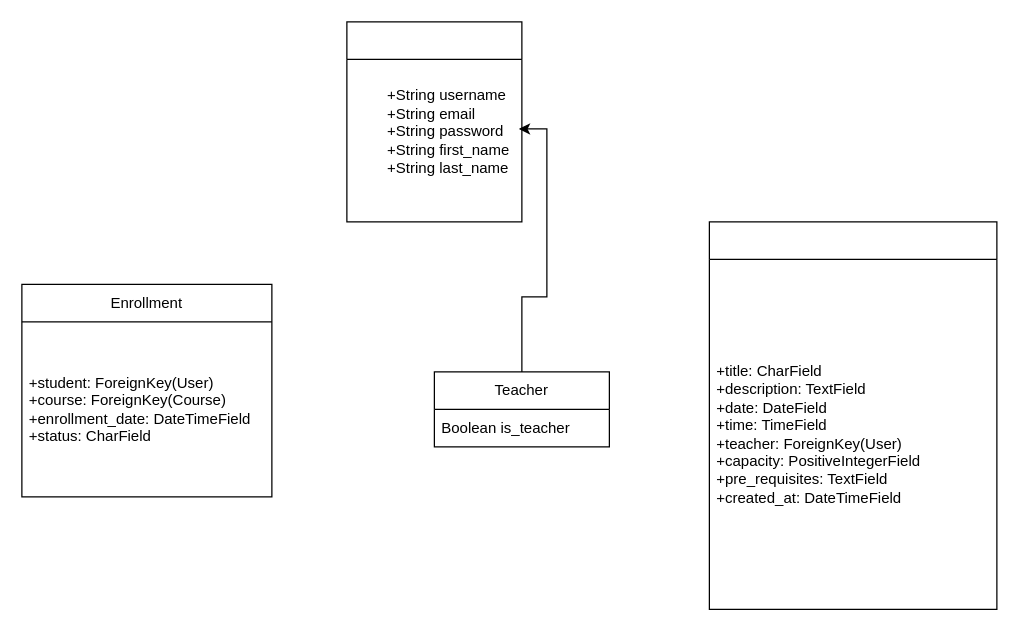
This 1019x631 diagram has some shape labels left out. Here are the shapes that lost their labels. From the top down, the box of each, then its label:
(346, 21, 522, 222): User (abstract)
(708, 221, 997, 609): Course
